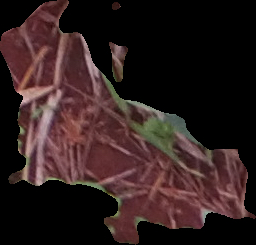soil: (1, 1, 254, 244)
